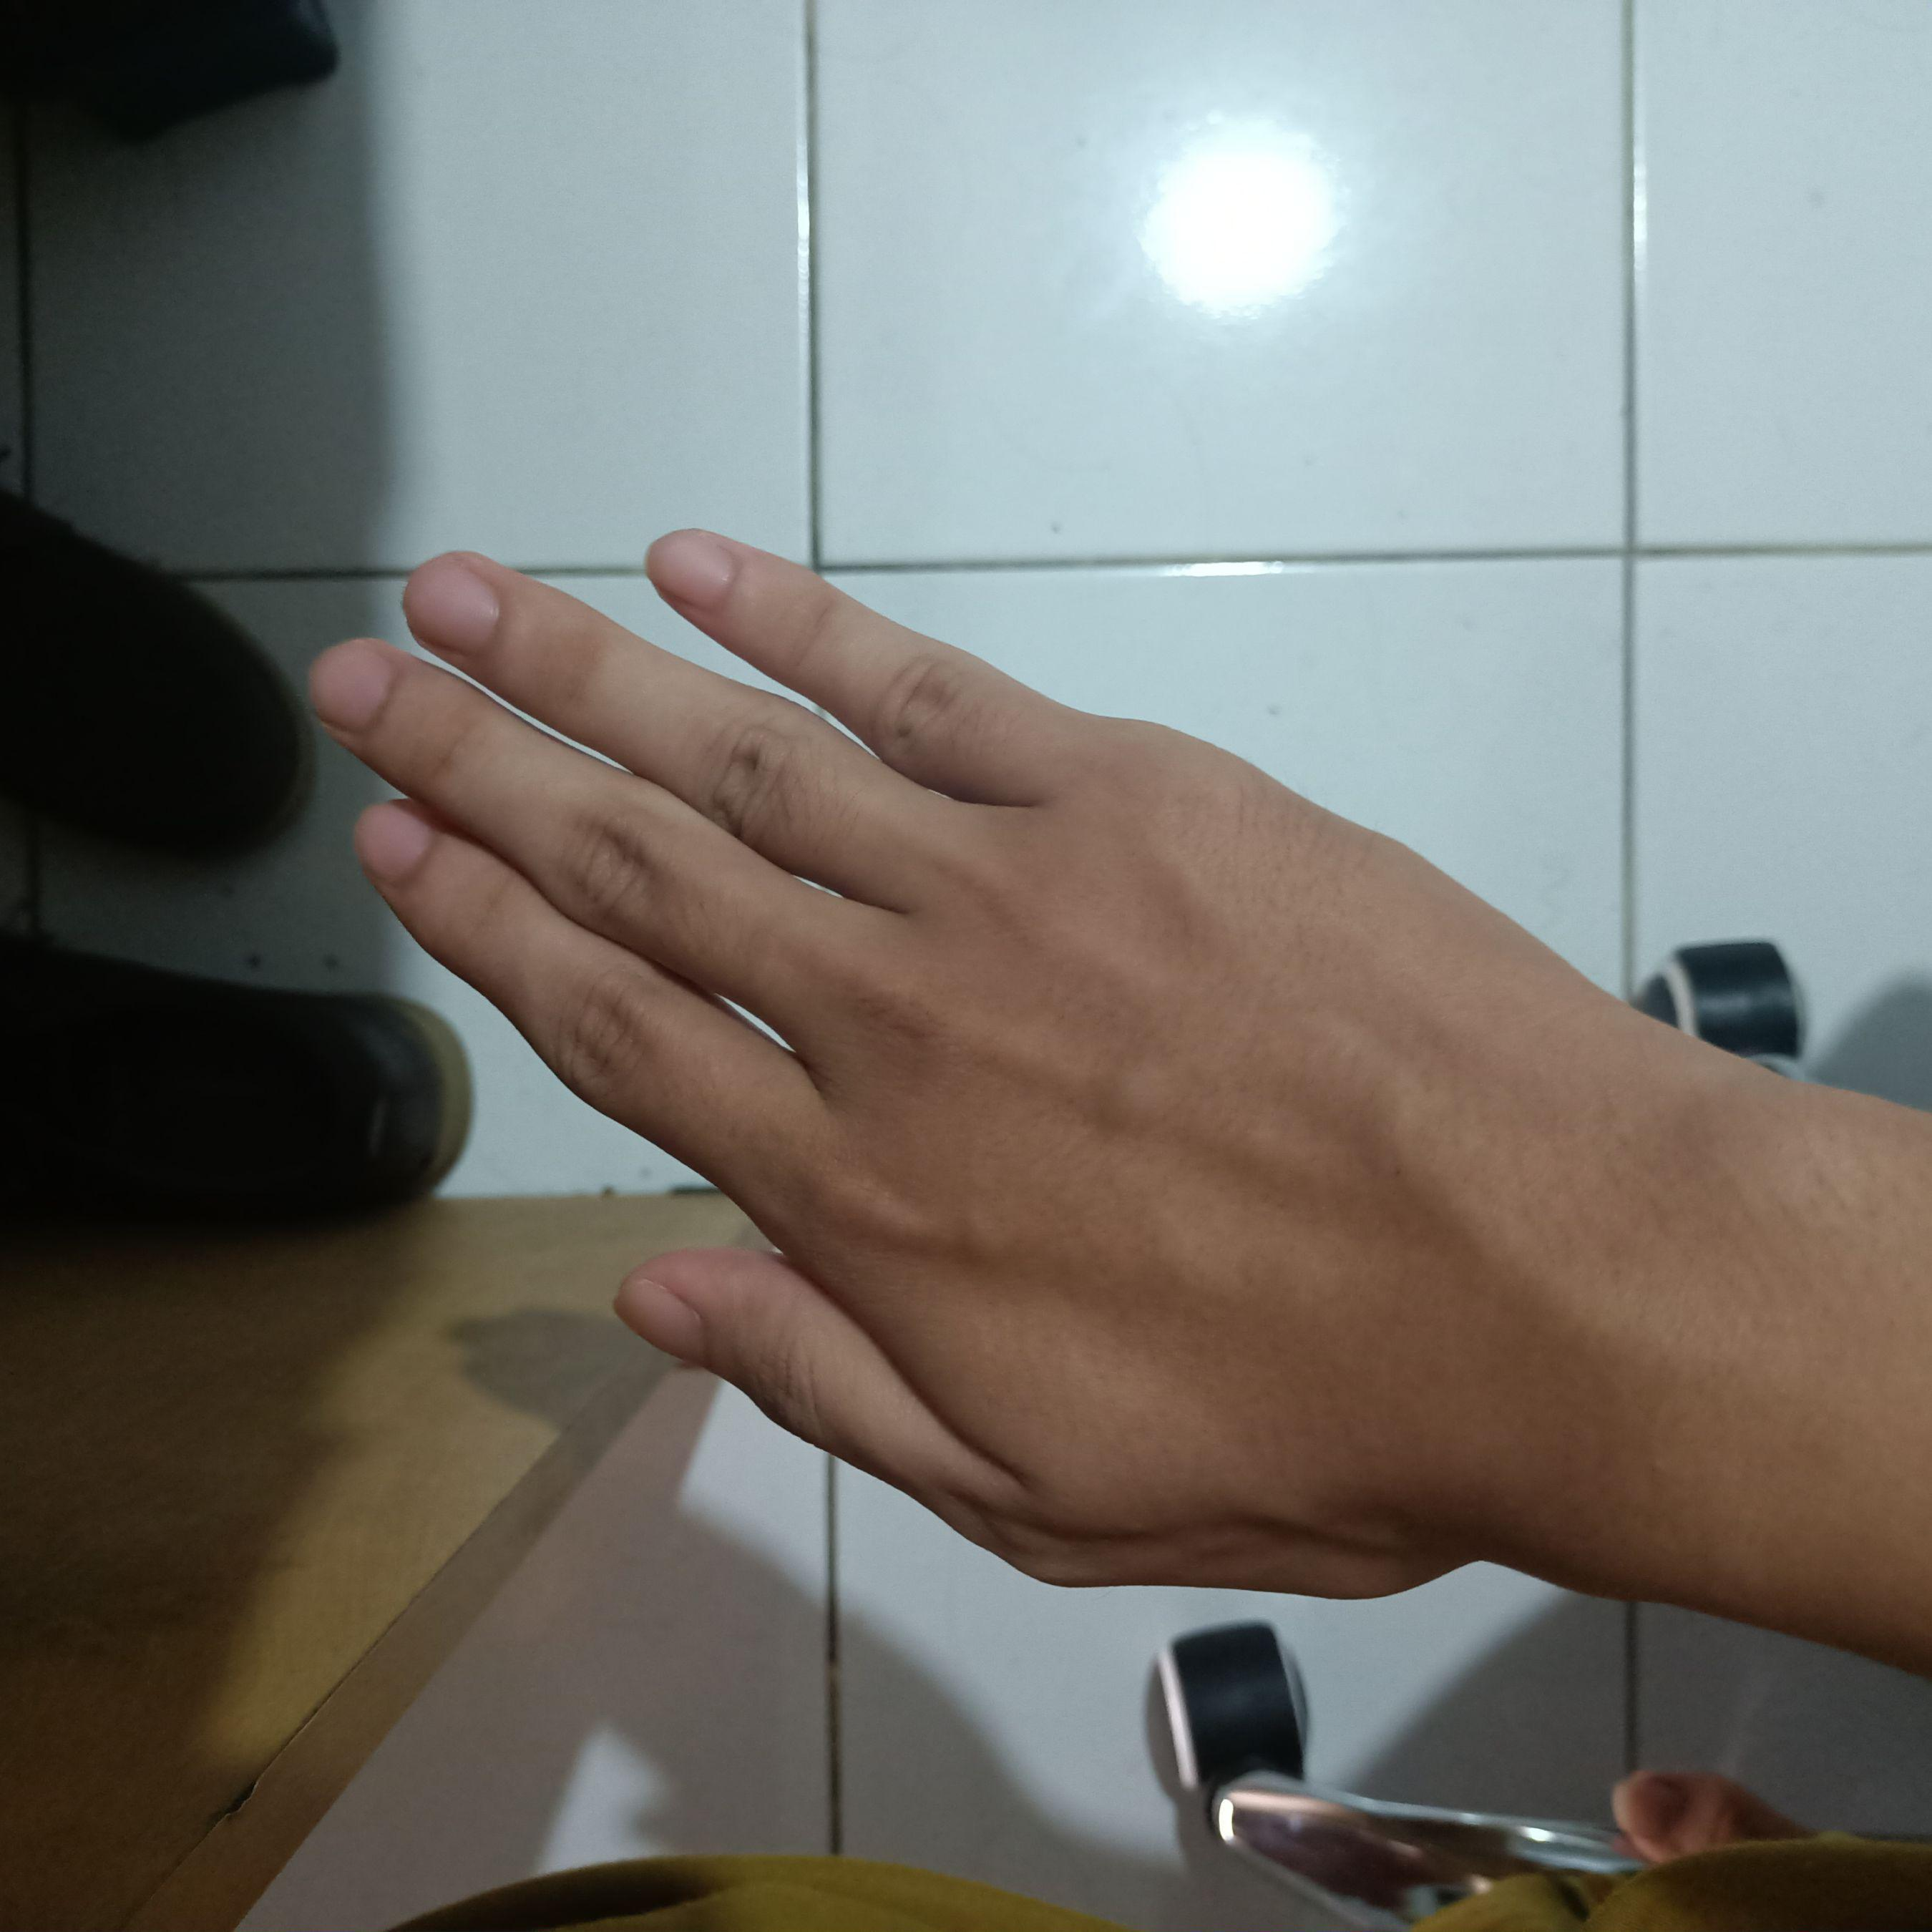paper: (267, 501, 1667, 1608)
